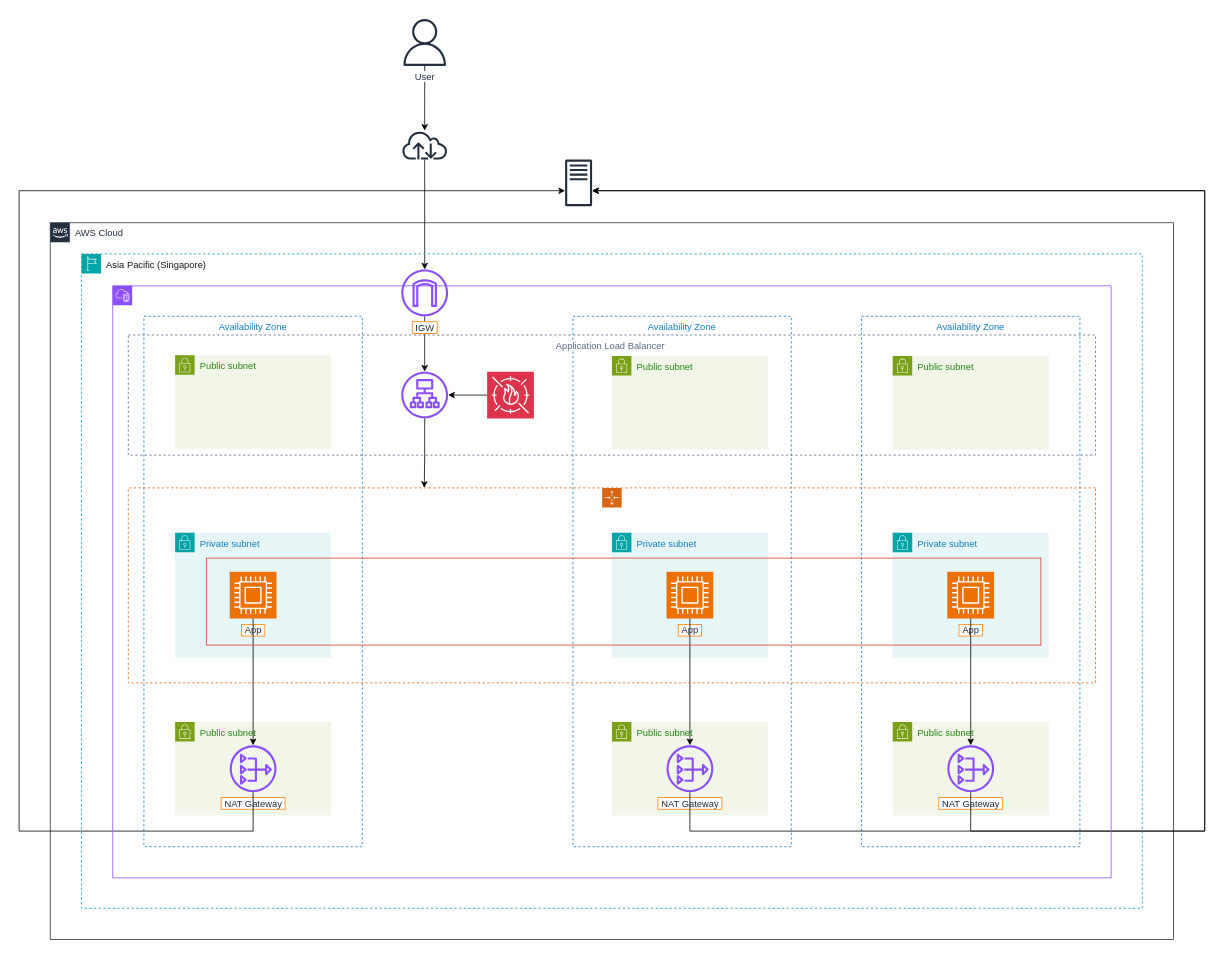
The diagram is 1225 pixels wide and 953 high, and some of its shapes have lost their labels. Each missing label, with the box of its shape:
ALB: (401, 371, 448, 418)
Auto Scaling group: (128, 487, 1096, 683)
Internet: (401, 130, 448, 159)
Security group: (206, 557, 1041, 645)
VPC 10.0.0.0/16: (112, 285, 1111, 878)
WAF: (486, 371, 534, 418)
Yahoo! Weather: (565, 159, 592, 206)
